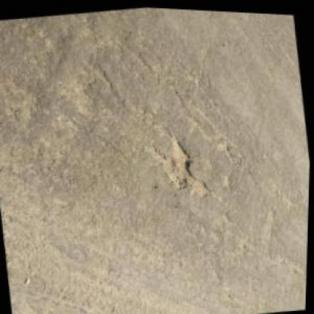Hueco: (158, 130, 198, 192), (195, 175, 212, 199)
